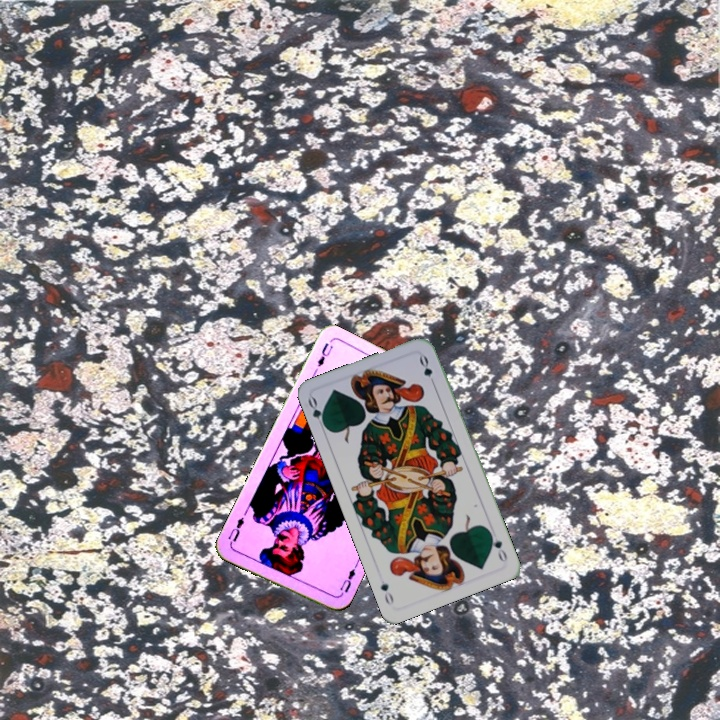EU: (334, 561, 360, 599), (313, 339, 336, 370)
GO: (304, 393, 330, 433), (485, 527, 510, 565)
